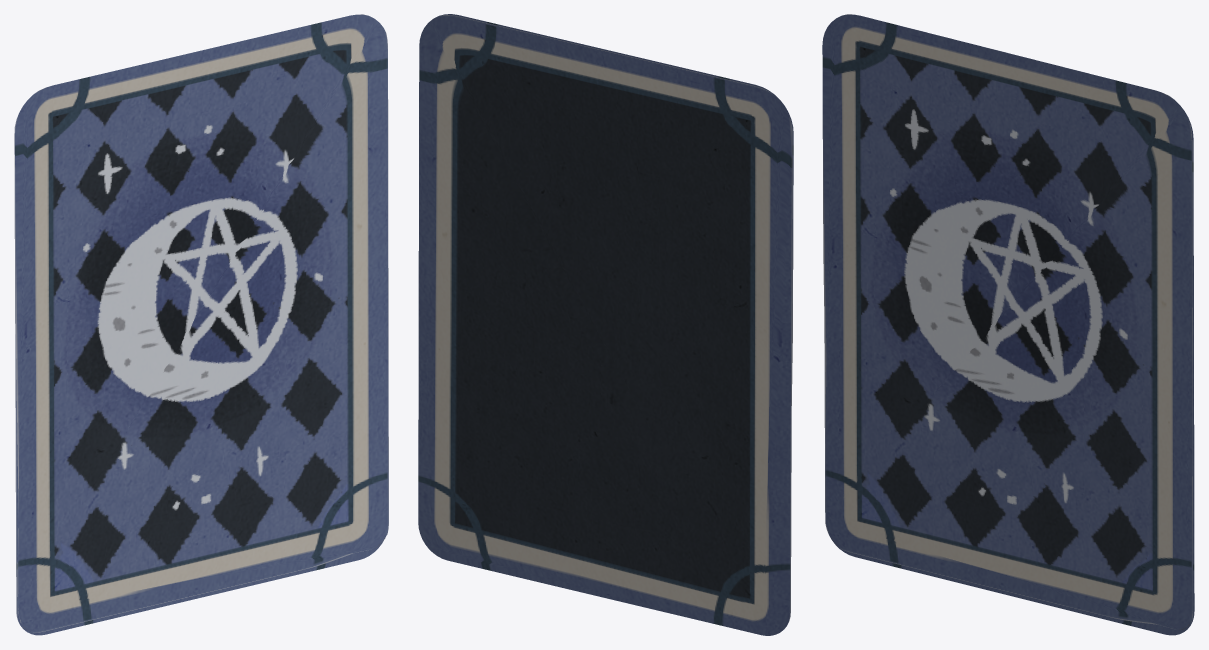
File: BlueCard.fbx
3 views of the same model, side by side, from view 1: azimuth 30°, elevation 25°; view 2: azimuth 150°, elevation 25°; view 3: azimuth 330°, elevation 25° (orthographic).
Visible parts, largest first — view 1: Plane; view 2: Plane; view 3: Plane.
Boxes of the visible parts, box(x1,y1,x2,y2) form: Plane: box(14, 14, 388, 635); Plane: box(418, 14, 793, 635); Plane: box(822, 14, 1194, 635).
Size of the model in its own units: 321 by 451 by 1.11.
